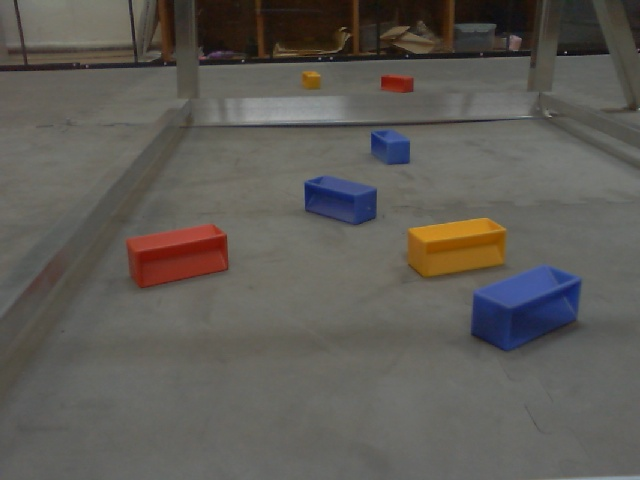BlueSample: (466, 262, 585, 351), (300, 174, 380, 226), (368, 128, 413, 167)
RedSample: (123, 223, 230, 288), (375, 73, 417, 93)
YellowSample: (406, 214, 508, 279), (301, 70, 323, 91)
